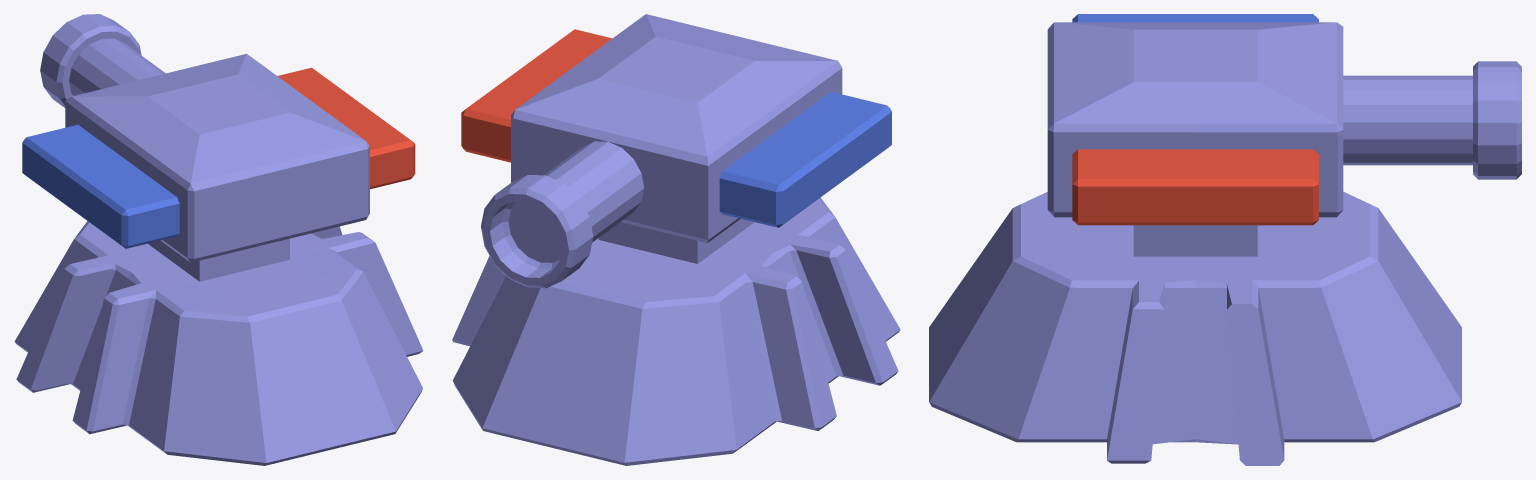
The model's file is canonjeu2.fbx.
The picture shows the model from 3 angles, left to right: view 1: azimuth 30°, elevation 25°; view 2: azimuth 150°, elevation 25°; view 3: azimuth 270°, elevation 25°; orthographic projection. The views are drawn at different scales.
Visible parts, largest first — view 1: Cube, Cube.001, Cylinder; view 2: Cube, Cube.001, Cylinder; view 3: Cube, Cube.001, Cylinder.
Boxes of the visible parts, box(x1,y1,x2,y2) form: Cube: box(14, 221, 423, 465); Cube.001: box(22, 53, 415, 281); Cylinder: box(40, 14, 165, 107); Cube: box(452, 197, 900, 465); Cube.001: box(461, 14, 891, 263); Cylinder: box(481, 141, 644, 288); Cube: box(929, 191, 1461, 465); Cube.001: box(1047, 14, 1343, 256); Cylinder: box(1343, 61, 1521, 179).
Size of the model in its own units: 512 by 385 by 661.
